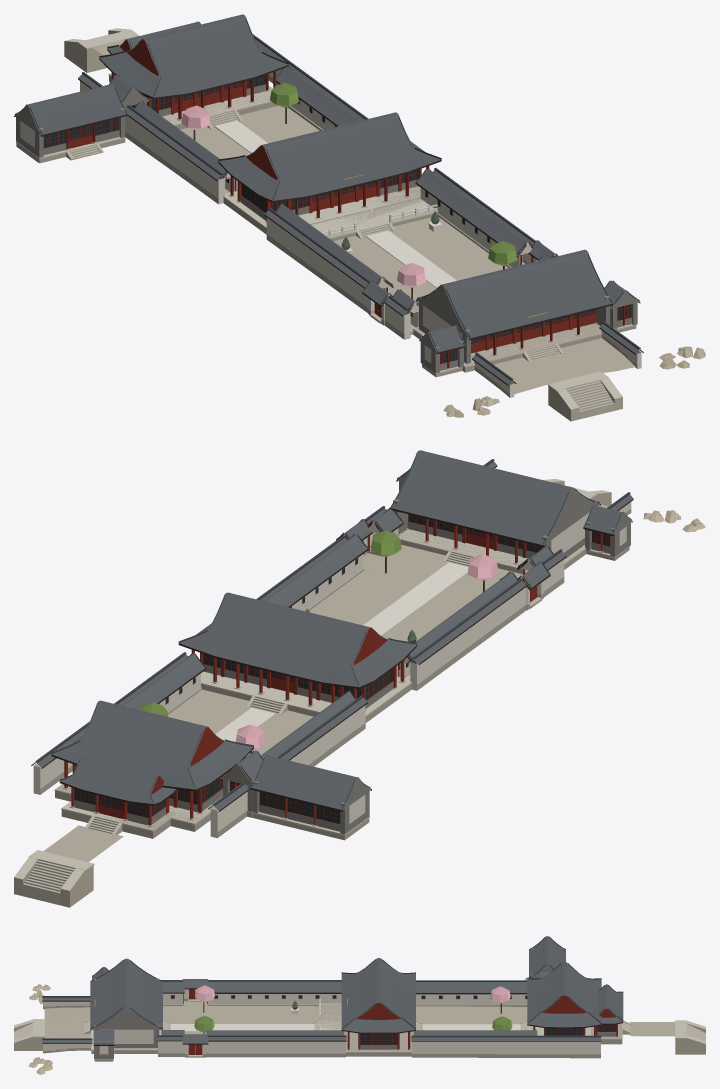
3 views of the same model, one above another, from view 1: azimuth 30°, elevation 25°; view 2: azimuth 150°, elevation 25°; view 3: azimuth 270°, elevation 25° (orthographic). The views are drawn at different scales.
Visible parts, largest first — view 1: YM03 九洲清晏 Jiuzhou Qingyan; view 2: YM03 九洲清晏 Jiuzhou Qingyan; view 3: YM03 九洲清晏 Jiuzhou Qingyan.
Part boxes in pixels (left/top/right/bottom): YM03 九洲清晏 Jiuzhou Qingyan: left=14, top=14, right=705, bottom=421; YM03 九洲清晏 Jiuzhou Qingyan: left=14, top=450, right=705, bottom=907; YM03 九洲清晏 Jiuzhou Qingyan: left=14, top=936, right=705, bottom=1074.
Size of the model in its own units: 43.61 by 13.39 by 124.
